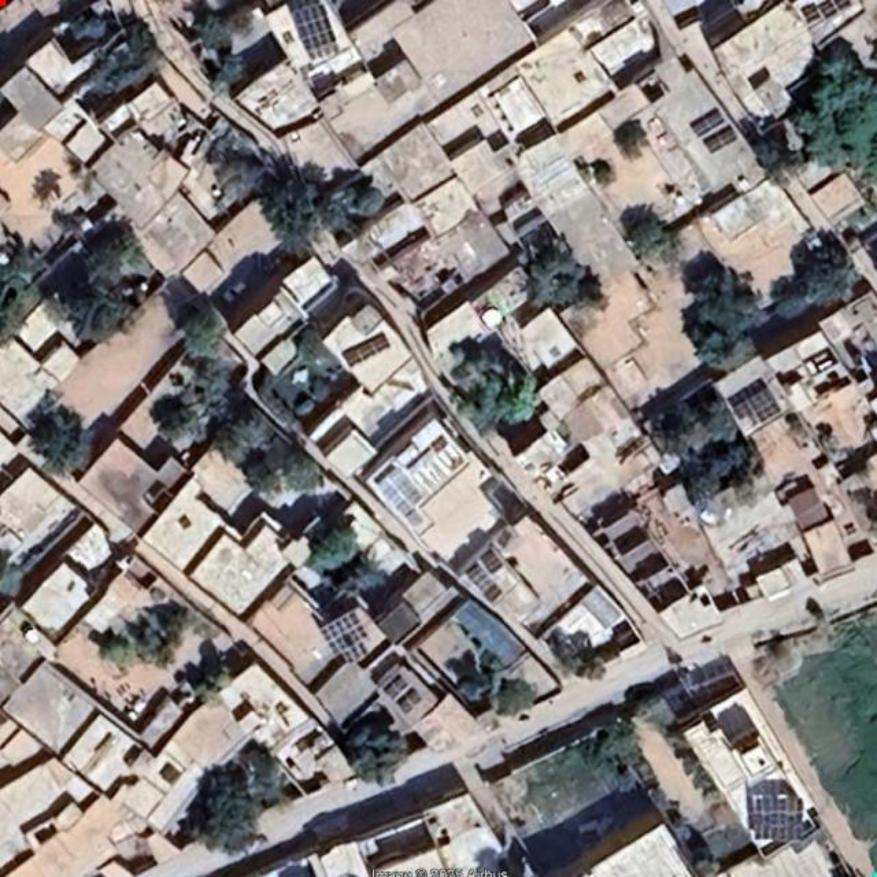Solarpanel: (289, 0, 336, 50), (753, 795, 804, 841), (735, 390, 779, 429), (344, 331, 389, 367), (704, 127, 737, 155), (692, 107, 724, 134)
